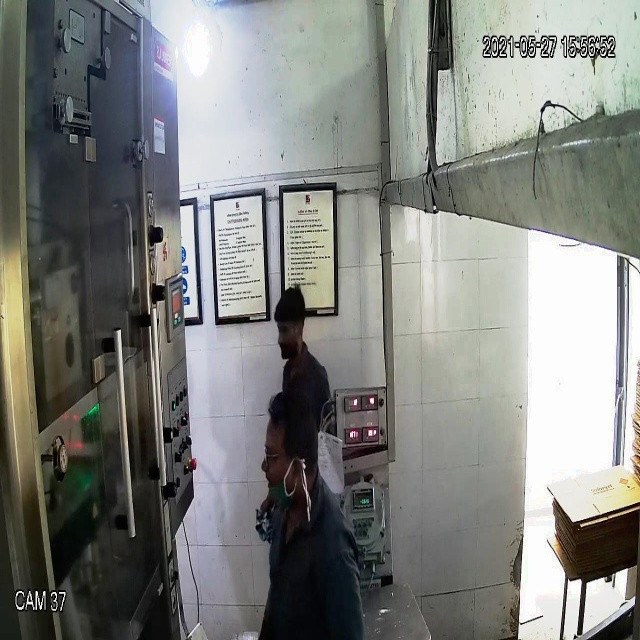Sin_gafas: (274, 318, 302, 343)
